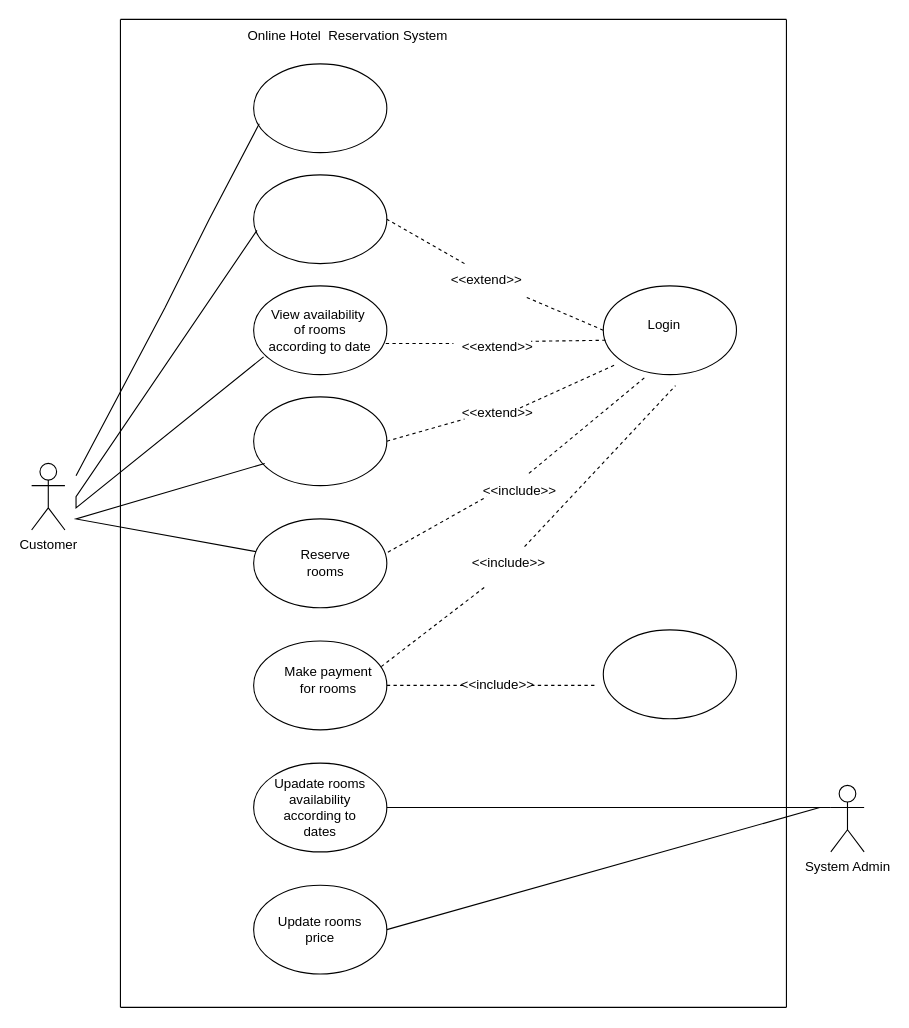
Image size: 909x1028. Some labels were removed from this diagram. Each missing label, with the centre of its shape:
"Create an account" belongs at point 320,108.
"Generate invoice in PDF format" belongs at point 669,674.
"Search for hotels in preference areas" belongs at point 320,219.
"View room types and prices" belongs at point 320,441.
